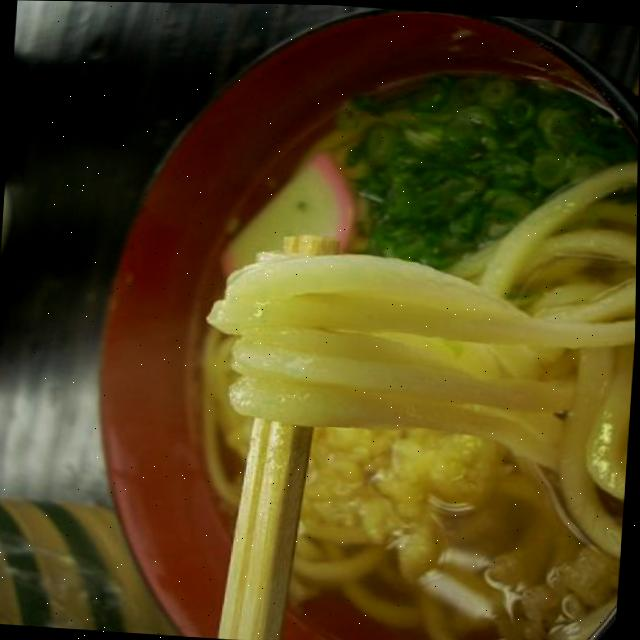面条主食: (70, 1, 640, 640)
